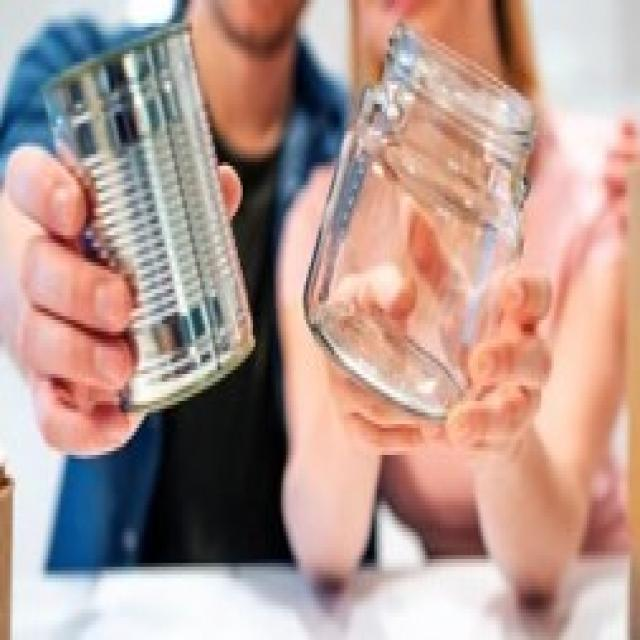electronic: (295, 26, 542, 432)
